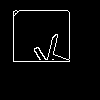K: (25, 25, 79, 82)
